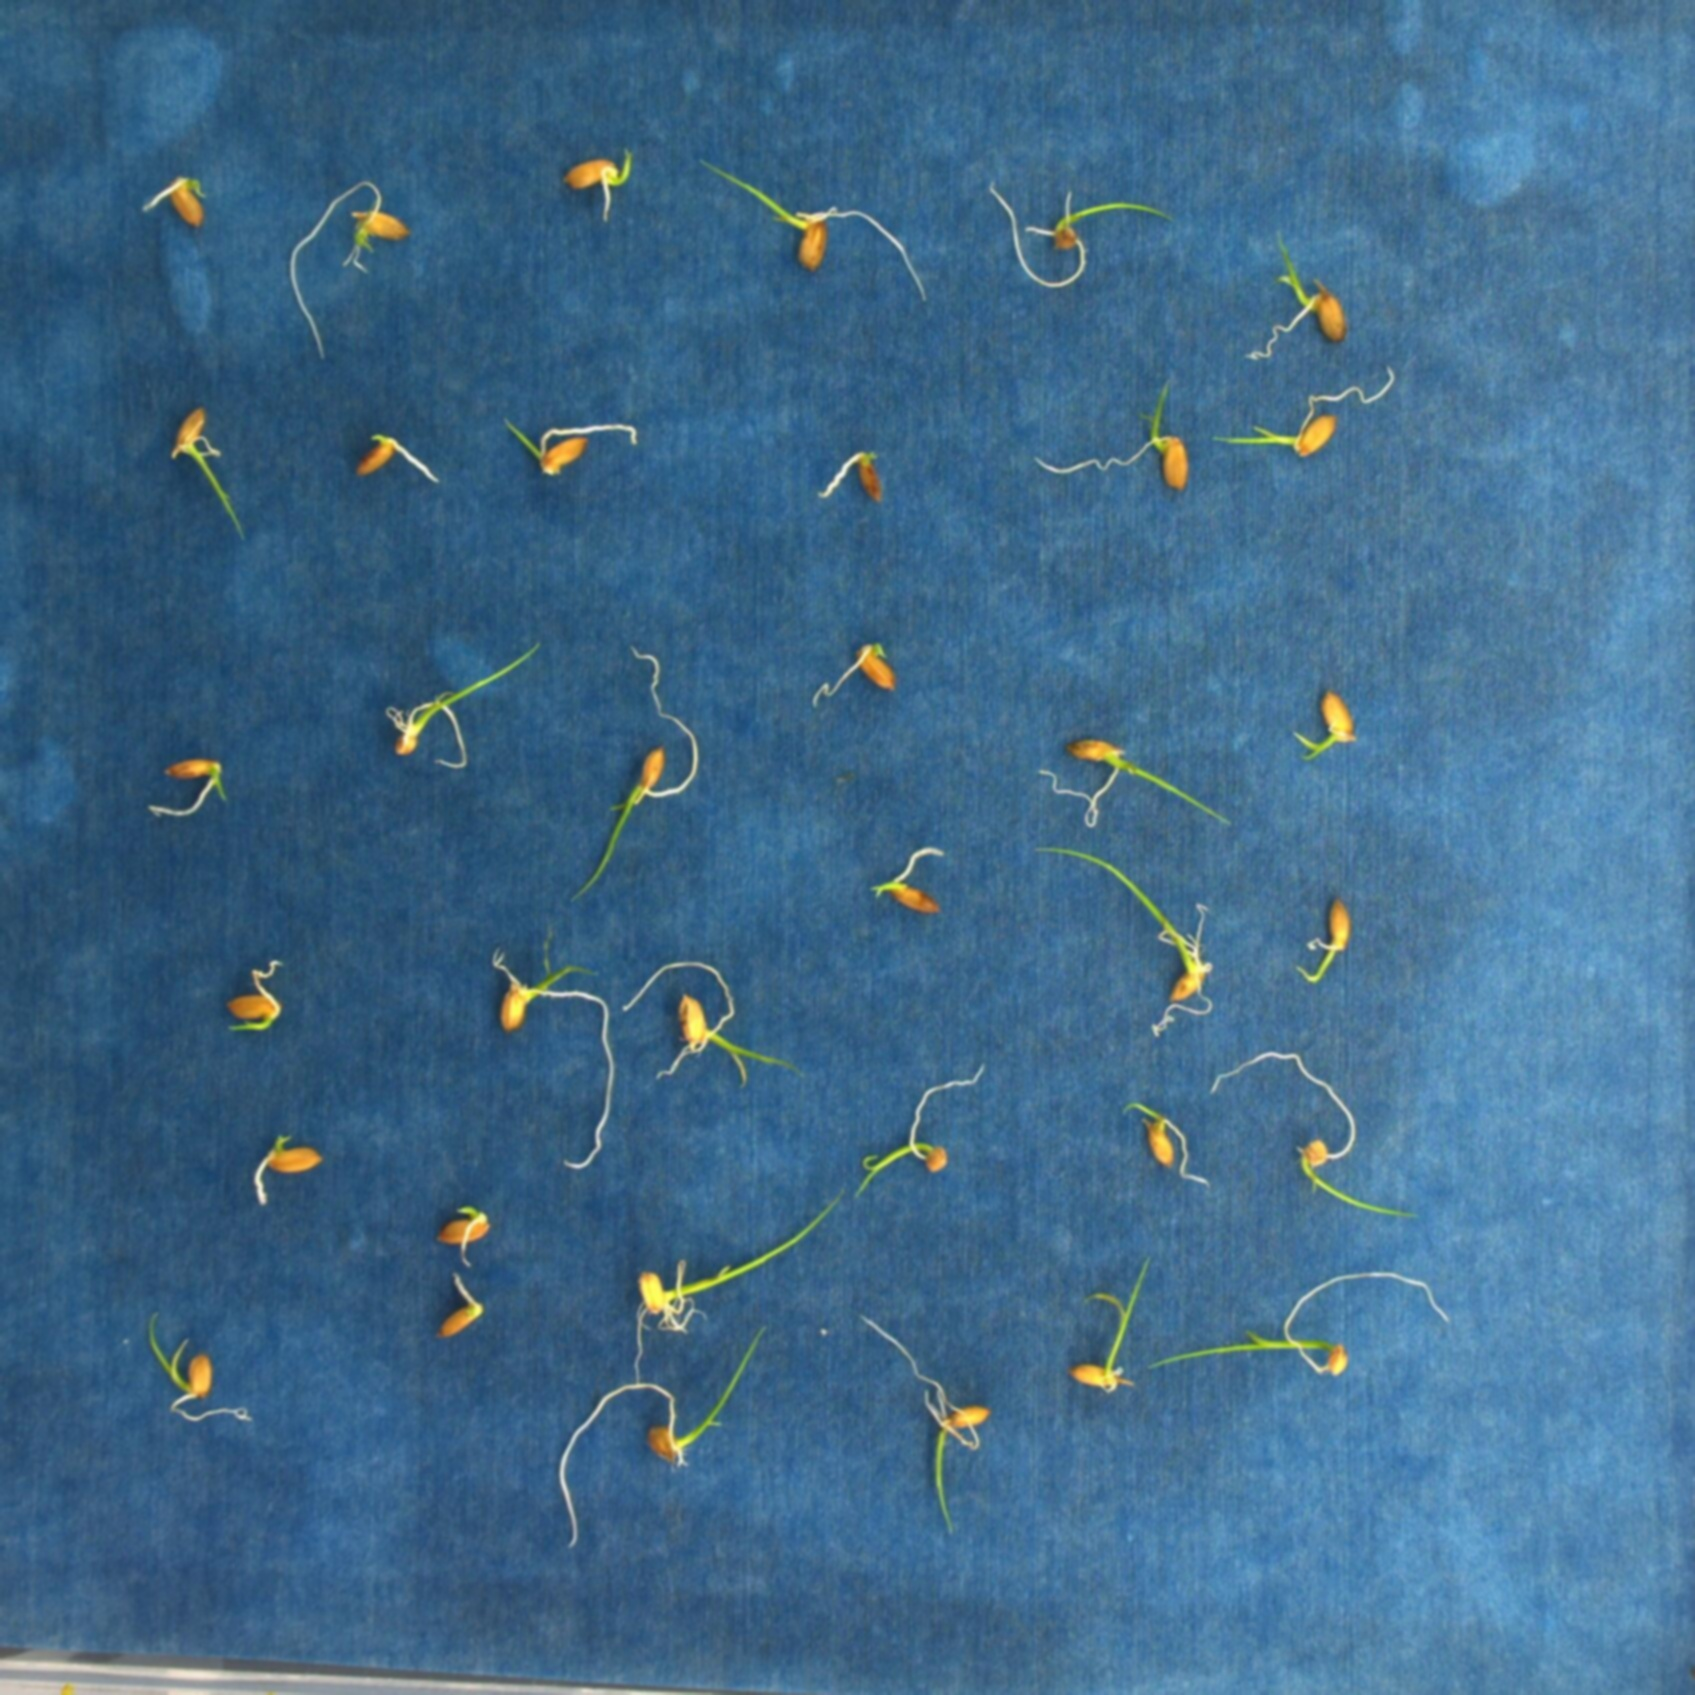not sprout: (809, 636, 910, 700), (141, 160, 217, 241), (248, 1128, 329, 1201), (352, 427, 438, 494), (810, 442, 889, 511), (433, 1197, 497, 1271), (428, 1270, 487, 1338)
sprout: (551, 1326, 771, 1560), (618, 1189, 846, 1395), (1198, 1049, 1434, 1229), (560, 640, 716, 913), (1031, 838, 1232, 1042), (1130, 1270, 1459, 1392), (478, 924, 624, 1172), (702, 152, 930, 309), (855, 1307, 997, 1540), (608, 956, 823, 1096), (282, 169, 427, 359), (979, 171, 1187, 300), (1038, 723, 1253, 844), (382, 633, 553, 782), (1211, 363, 1409, 484), (1031, 373, 1195, 518), (851, 1066, 997, 1209), (1239, 220, 1364, 373), (1055, 1254, 1156, 1405), (144, 1302, 255, 1436), (161, 390, 248, 542), (497, 405, 644, 478), (1122, 1094, 1212, 1197), (1287, 886, 1364, 992), (1282, 681, 1374, 770), (871, 843, 964, 930), (217, 955, 298, 1045), (147, 750, 233, 818), (571, 141, 643, 220)
